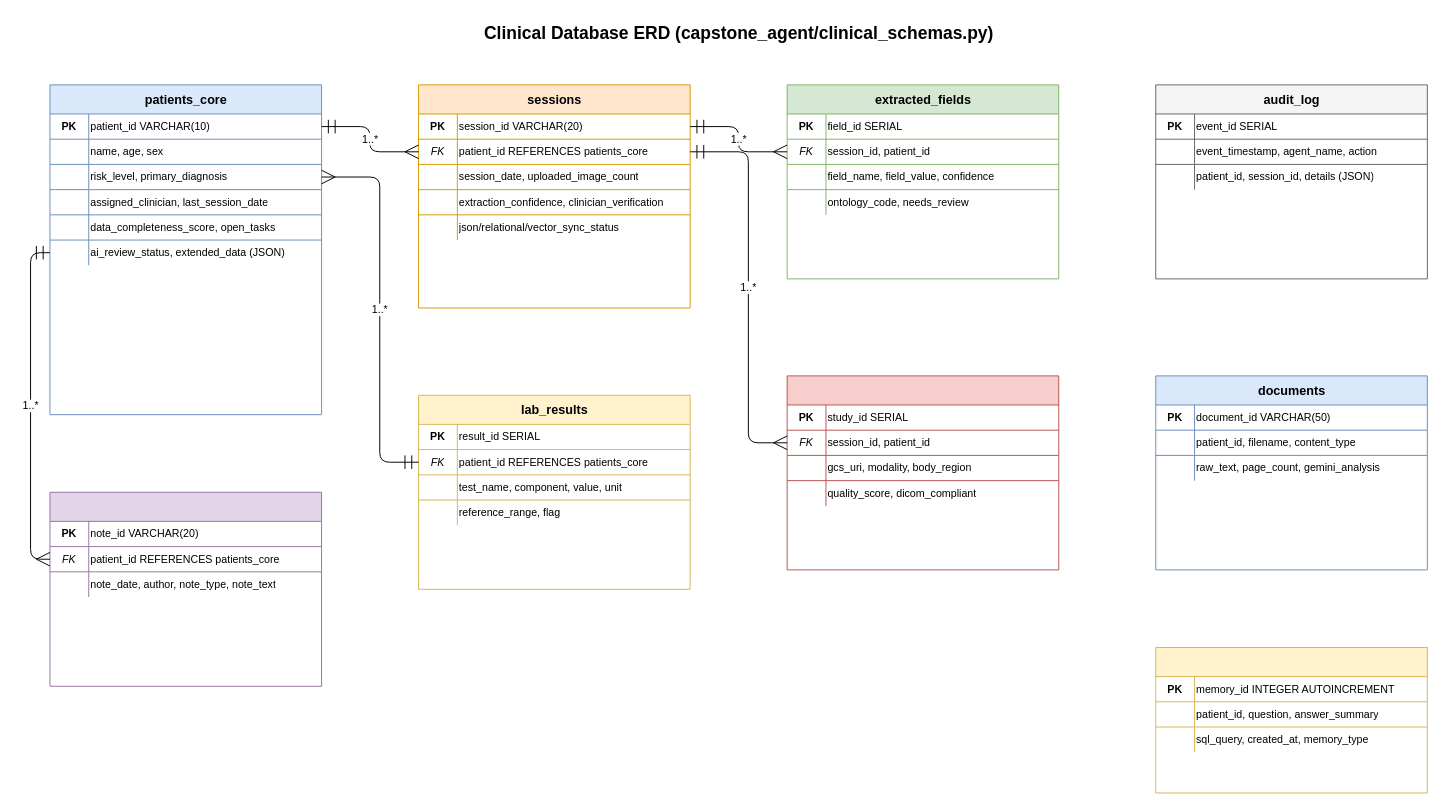
Some shapes in this 1444 by 810 pixel diagram are drawn without their labels. The shapes that lost their labels are listed below. From the top down, each one's box as (x1, y1, x2, y2) in pixels, then its label:
(786, 375, 1059, 570): imaging_studies
(49, 491, 322, 686): clinical_notes
(1155, 647, 1427, 793): qa_memory
